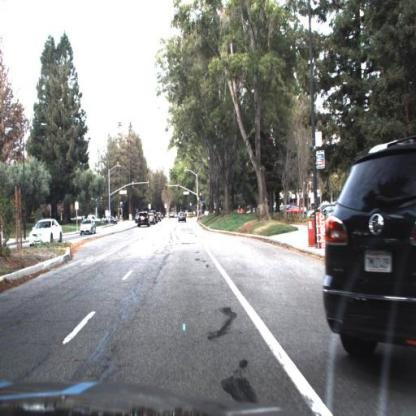car: (323, 136, 415, 365), (26, 216, 66, 245), (28, 217, 63, 249), (78, 216, 96, 238), (134, 209, 150, 230), (178, 209, 192, 224), (138, 210, 150, 226)
